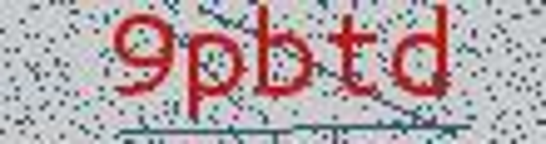9: (102, 4, 179, 101)
b: (249, 2, 317, 100)
d: (388, 1, 461, 106)
p: (183, 28, 245, 123)
t: (323, 8, 384, 104)
